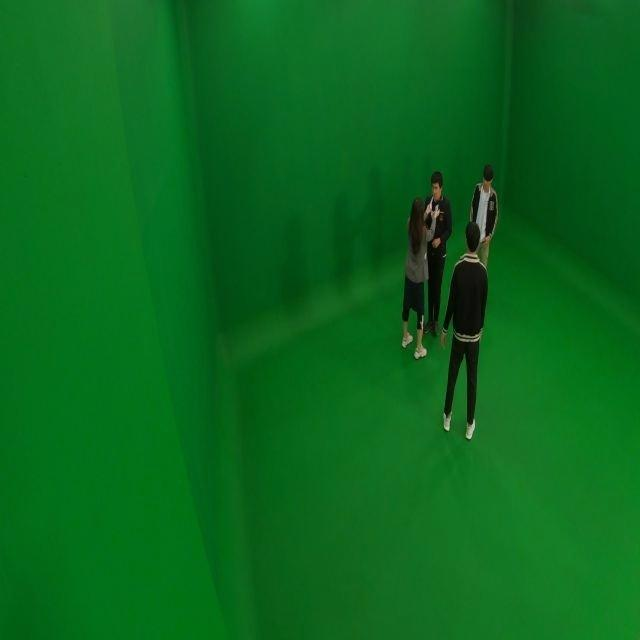fight: (441, 222, 490, 446), (397, 171, 454, 361), (468, 164, 500, 267)
